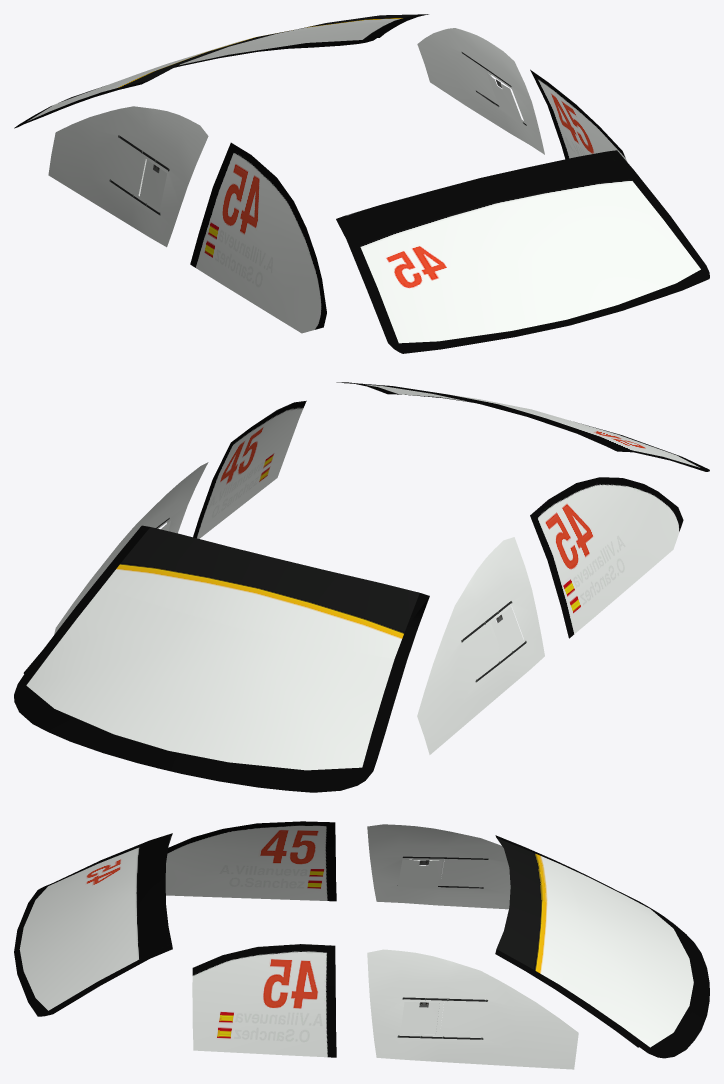
The model's file is glass.fbx.
3 renders of one model, top to bottom at view 1: azimuth 30°, elevation 25°; view 2: azimuth 150°, elevation 25°; view 3: azimuth 270°, elevation 25°, orthographic. The views are drawn at different scales.
Visible parts, largest first — view 1: Glass; view 2: Glass; view 3: Glass.
Part boxes in pixels (x1,y1,x2,y2): Glass: (14,14,709,353); Glass: (14,382,709,792); Glass: (14,821,709,1069).
Bounding box in the file's own units: 260 × 84.18 × 485.
2 materials, 2 textured.
